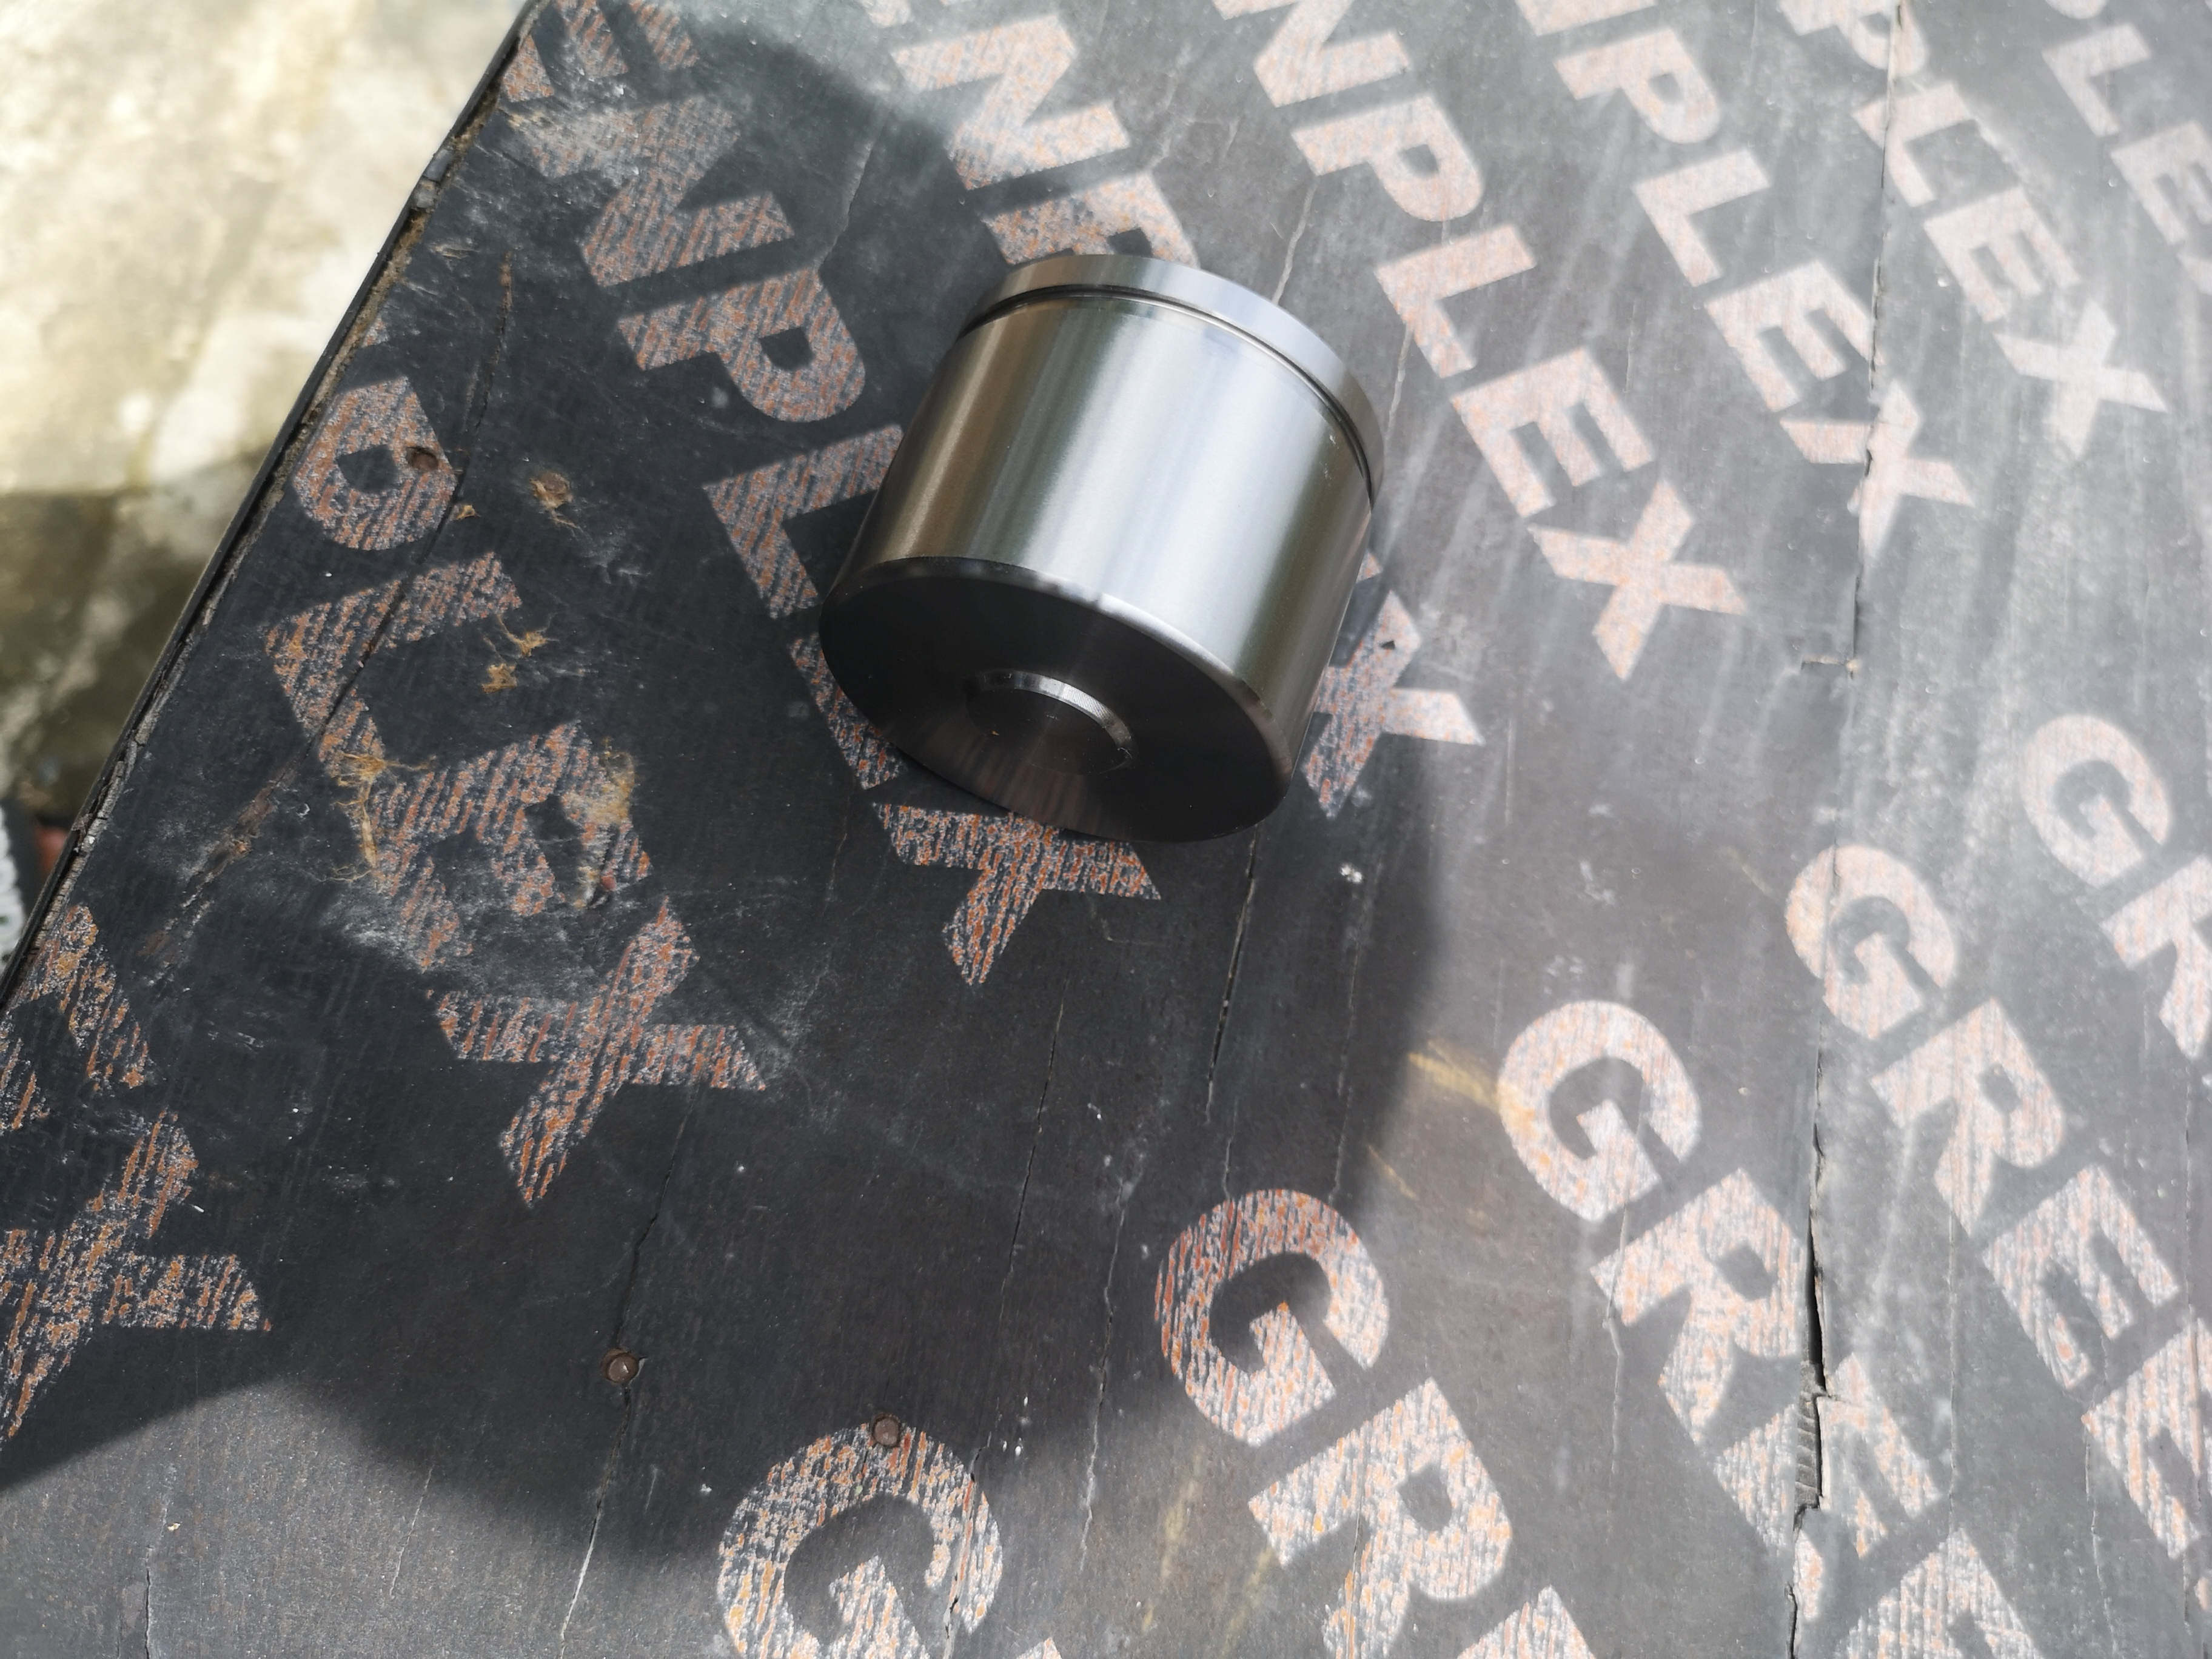ลูกสูบดิสเบรค: (803, 221, 1444, 861)
